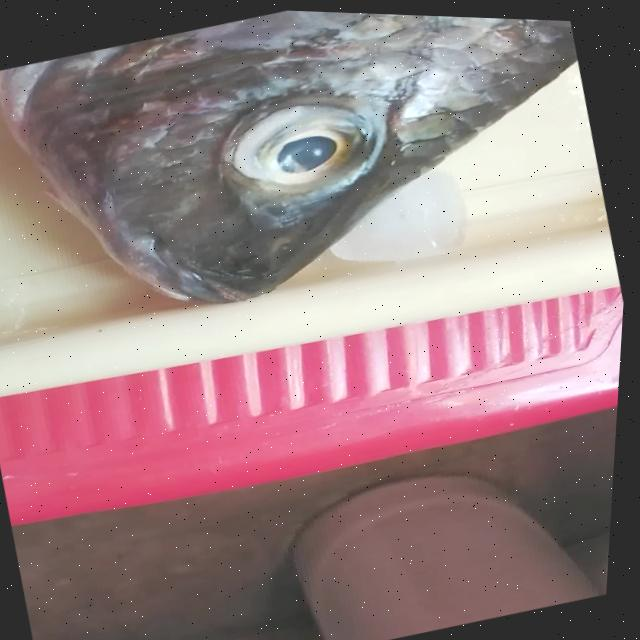Fresh: (182, 55, 428, 235)
